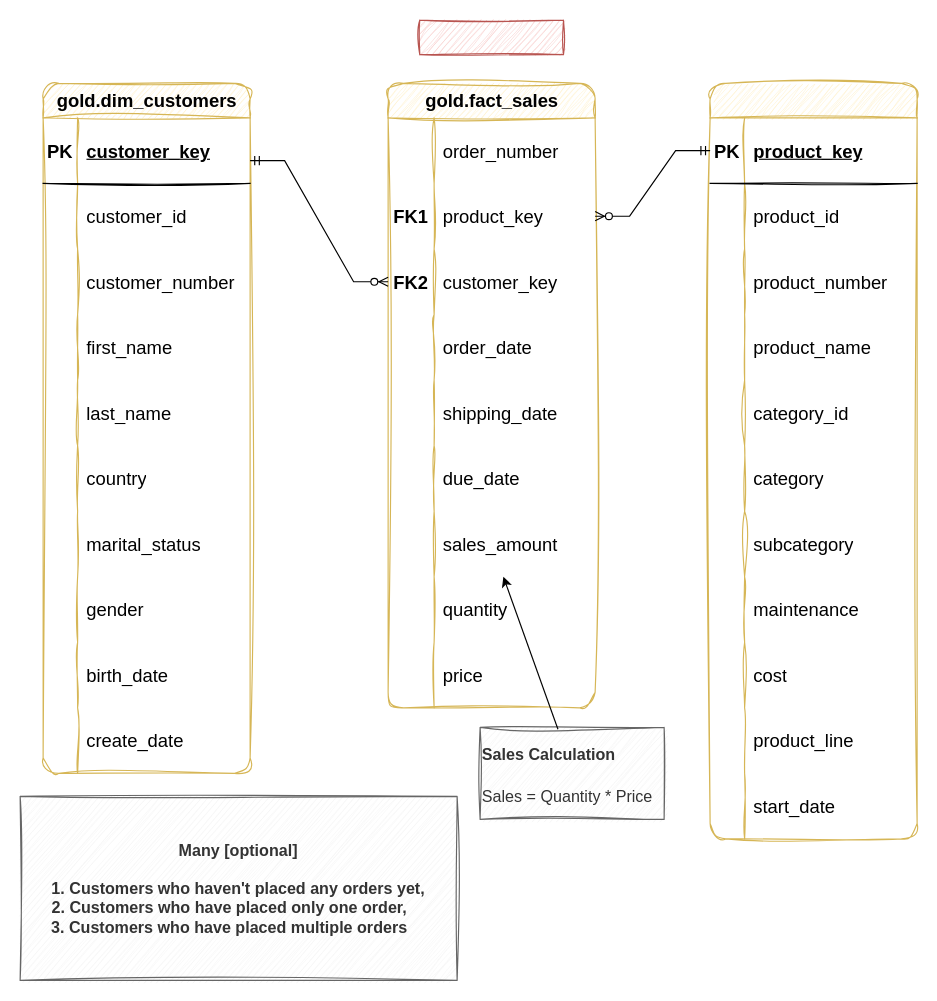
The diagram is 937 pixels wide and 1001 high, and some of its shapes have lost their labels. Here are the shapes that lost their labels. From the top down, the box of each, then its label:
(419, 19, 564, 55): Star Schema
(709, 82, 917, 839): gold.dim_products
